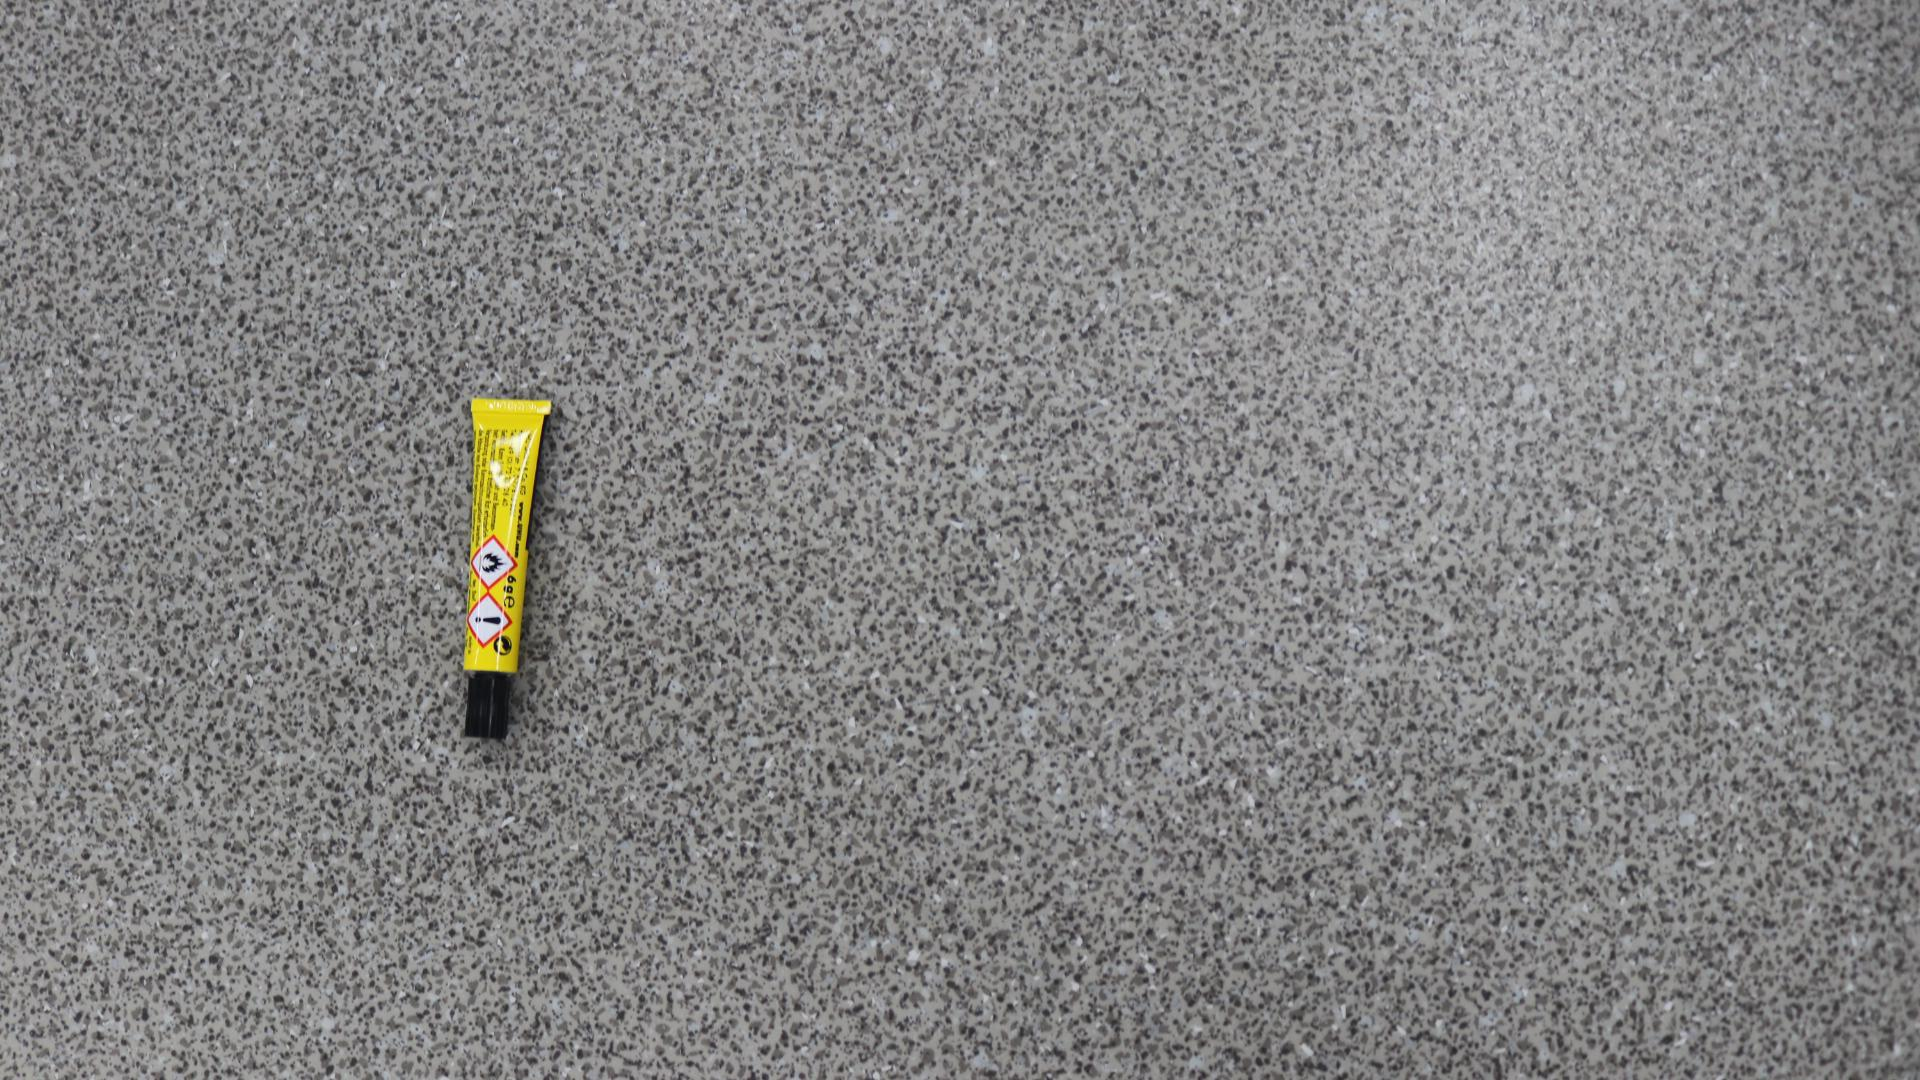Head: (482, 700, 490, 709)
Tail: (504, 401, 515, 410)
Tube: (463, 398, 553, 740)
